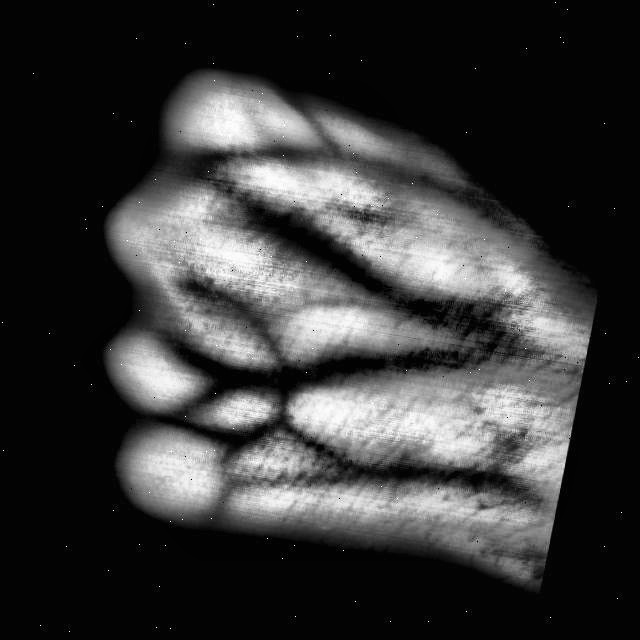Vein: (292, 218, 469, 344), (292, 345, 491, 394)
